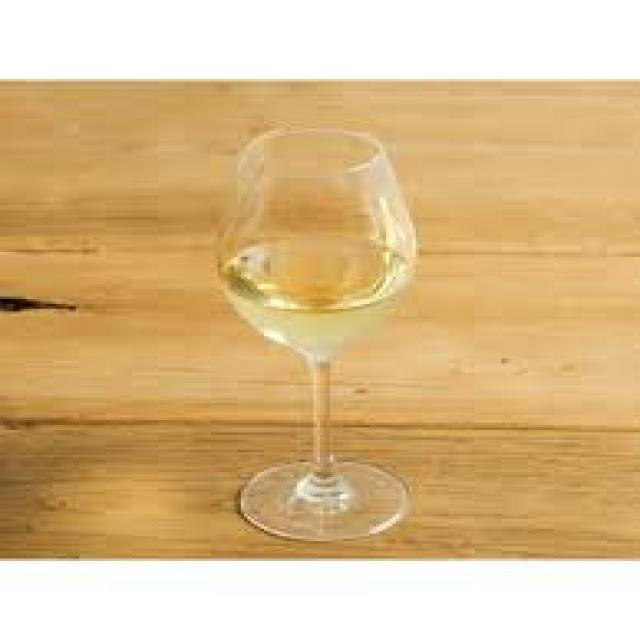glass: (211, 126, 406, 536)
